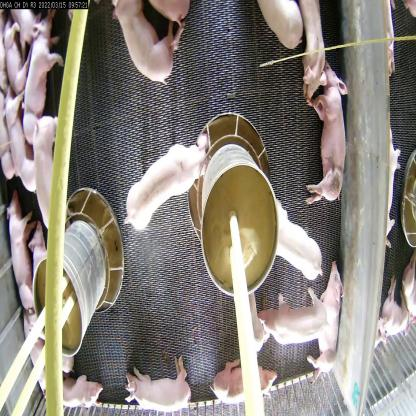Pig: (117, 140, 214, 243), (105, 0, 180, 93), (6, 198, 47, 338), (259, 202, 329, 281), (26, 124, 76, 232), (18, 27, 64, 134), (116, 352, 193, 415), (253, 298, 327, 357), (215, 352, 281, 415), (320, 71, 348, 208), (294, 1, 329, 99), (314, 271, 352, 361)
